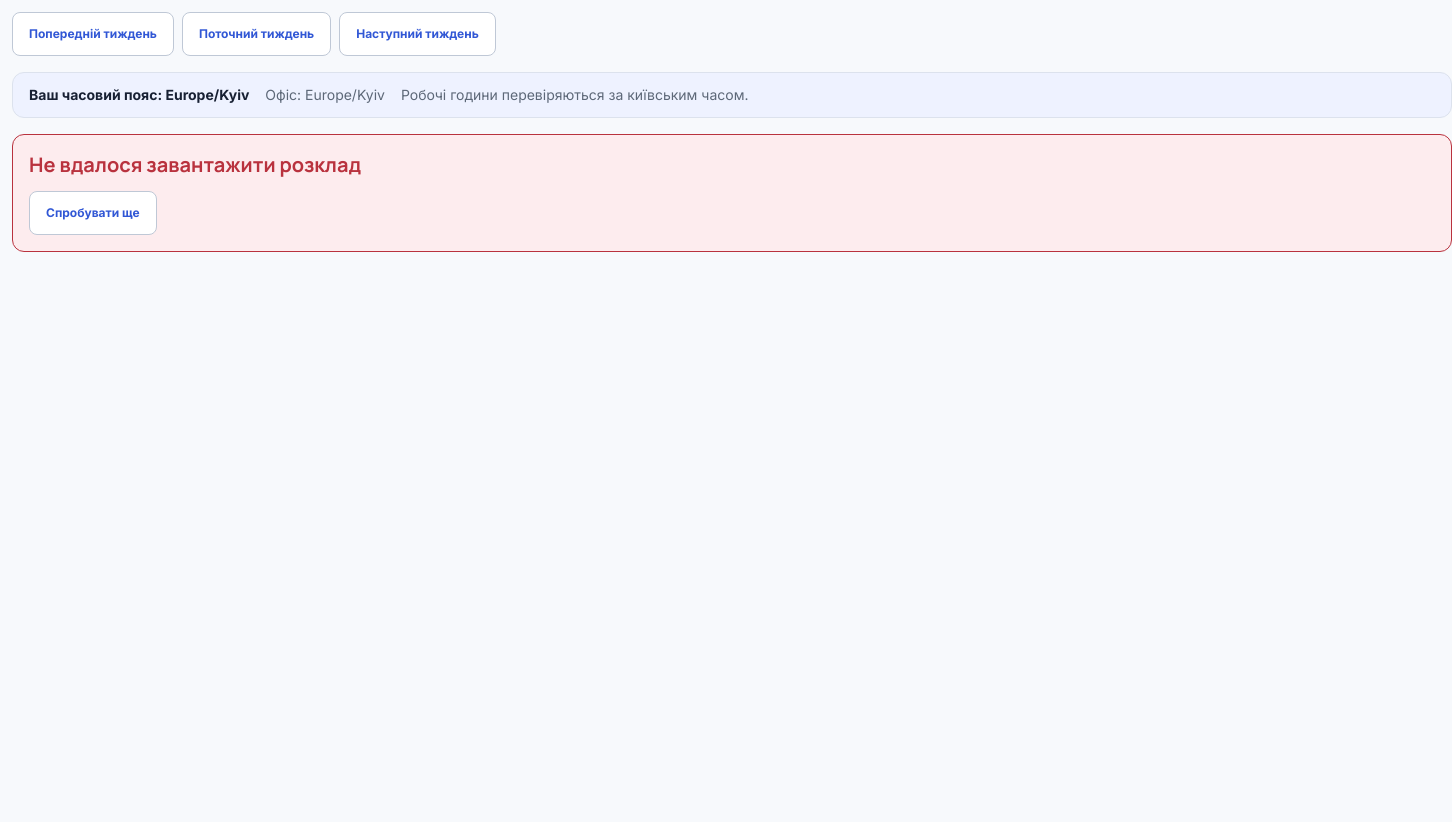
ScheduleCalendar › shows inline errors and retries on request
Expected: the heading "Не вдалося завантажити розклад" is shown, left=29, top=151, right=361, bottom=179
Click the button "Спробувати ще" at x=93, y=213, box left=29, top=191, right=157, bottom=235
(page scrolled)
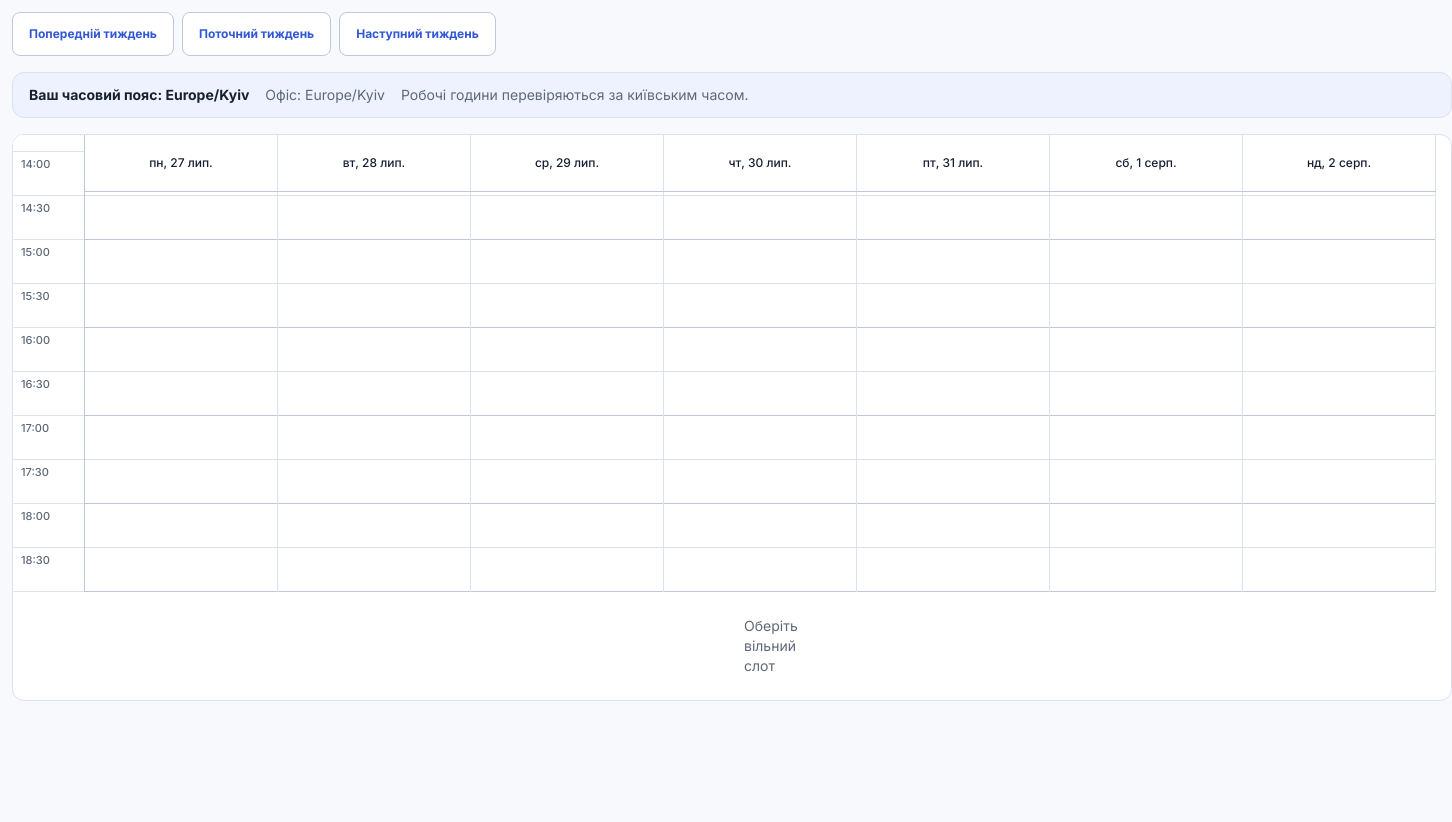
Now the text "Оберіть вільний слот" is shown, box left=732, top=608, right=810, bottom=684
